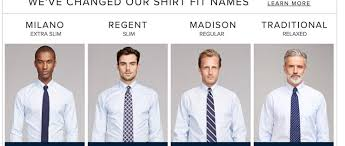C_shirt: (260, 80, 331, 146), (94, 79, 162, 143), (175, 83, 248, 141), (11, 81, 77, 143)
